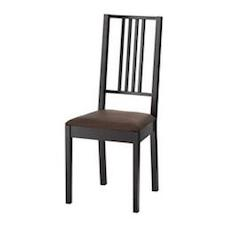chair: (6, 6, 211, 217)
